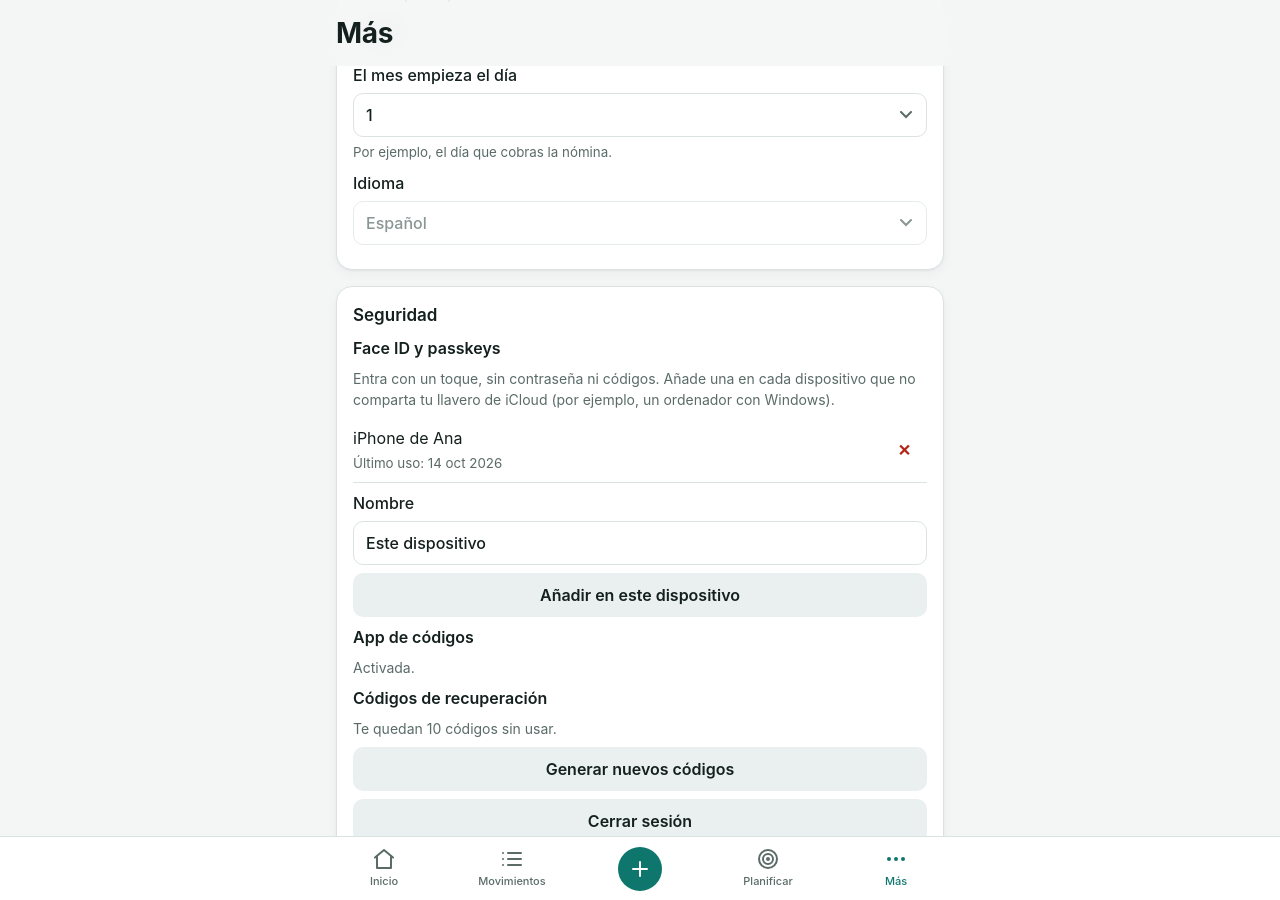
Scenario: settings › lists passkeys and removes one after confirmation
(page scrolled)
Expected: the text "iPhone de Ana" is shown, [353,428,462,448]
Expected: the text "Último uso: 14 oct 2026" is shown, [353,456,502,472]
Step 1. Click the button named "Quitar iPhone de Ana" → (904, 450), box [882,428,927,472]
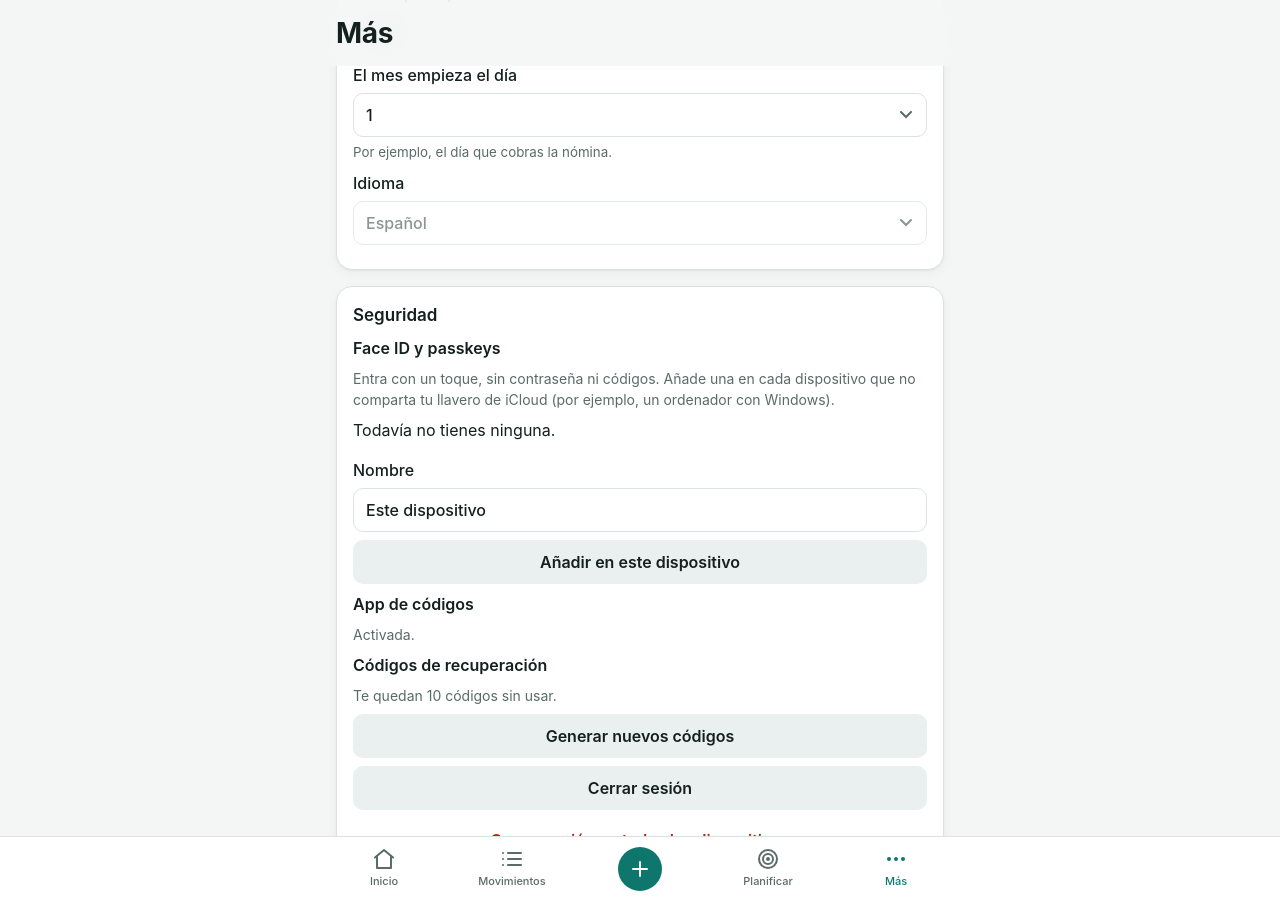
Expected: the text "Todavía no tienes ninguna." is shown, [353,420,555,440]
